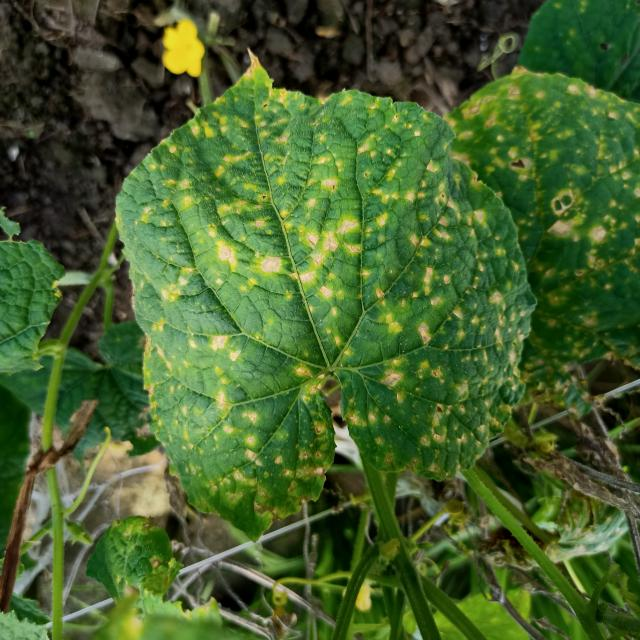disease_cucumber: (115, 86, 532, 521), (456, 76, 640, 365)
